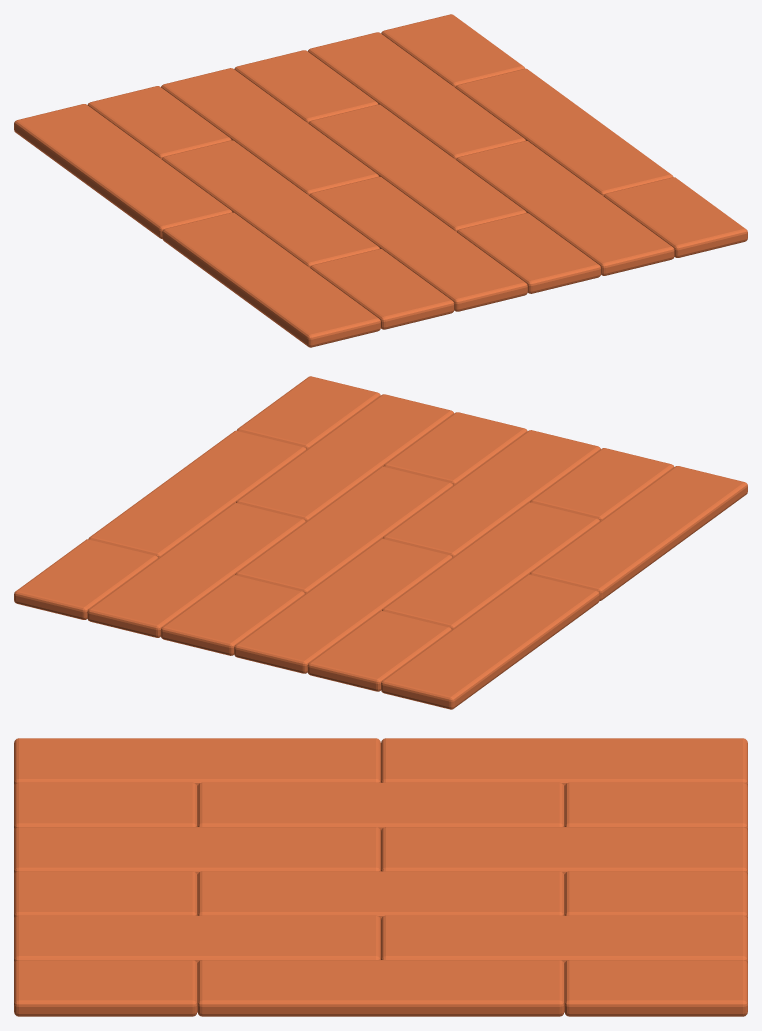
Rendered from Wooden Floor.fbx.
3 renders of one model, top to bottom at view 1: azimuth 30°, elevation 25°; view 2: azimuth 150°, elevation 25°; view 3: azimuth 270°, elevation 25°, orthographic. The views are drawn at different scales.
Visible parts, largest first — view 1: Plane; view 2: Plane; view 3: Plane.
Part boxes in pixels (box(x1,y1,x2,y2)): Plane: box(14, 14, 747, 347); Plane: box(14, 376, 747, 709); Plane: box(14, 738, 747, 1016).
Bounding box in the file's own units: 257 × 7.13 × 300.
